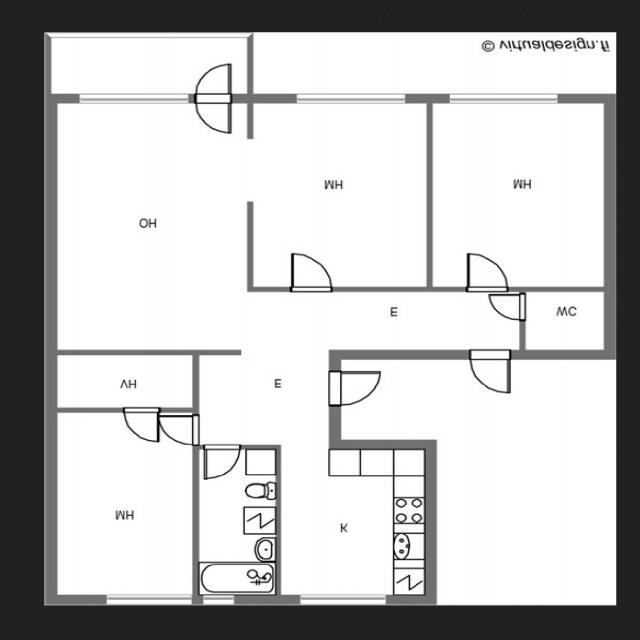door: (329, 371, 380, 404), (471, 349, 510, 392), (468, 252, 507, 292), (292, 253, 331, 292), (196, 64, 230, 104), (196, 93, 230, 133), (205, 444, 240, 479), (158, 416, 199, 444), (125, 407, 158, 441), (490, 295, 526, 320)
